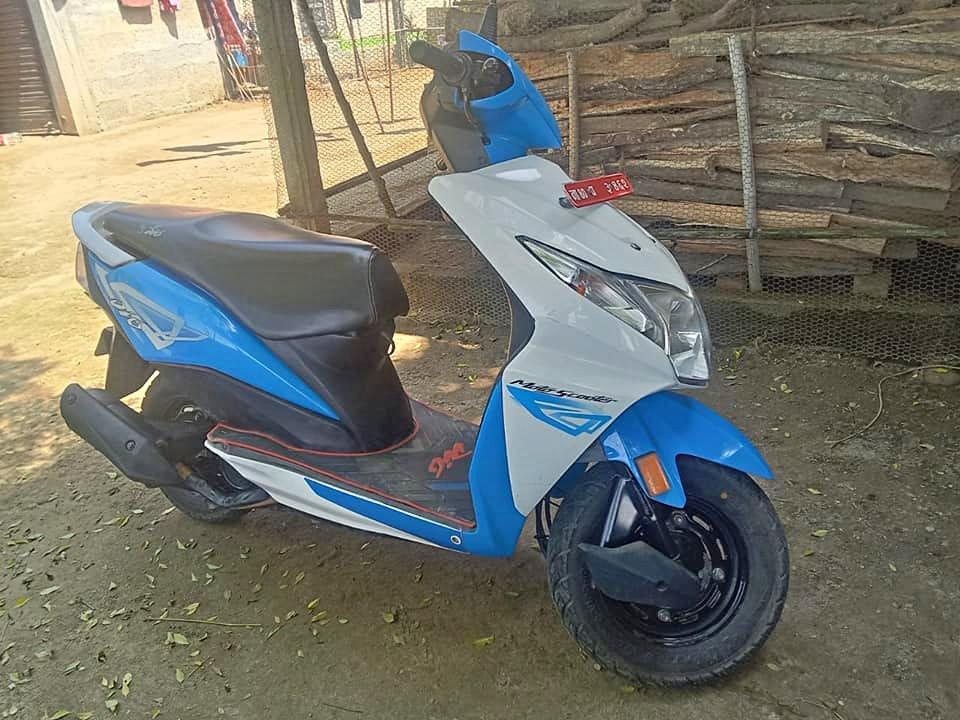scooter: (49, 17, 794, 698)
